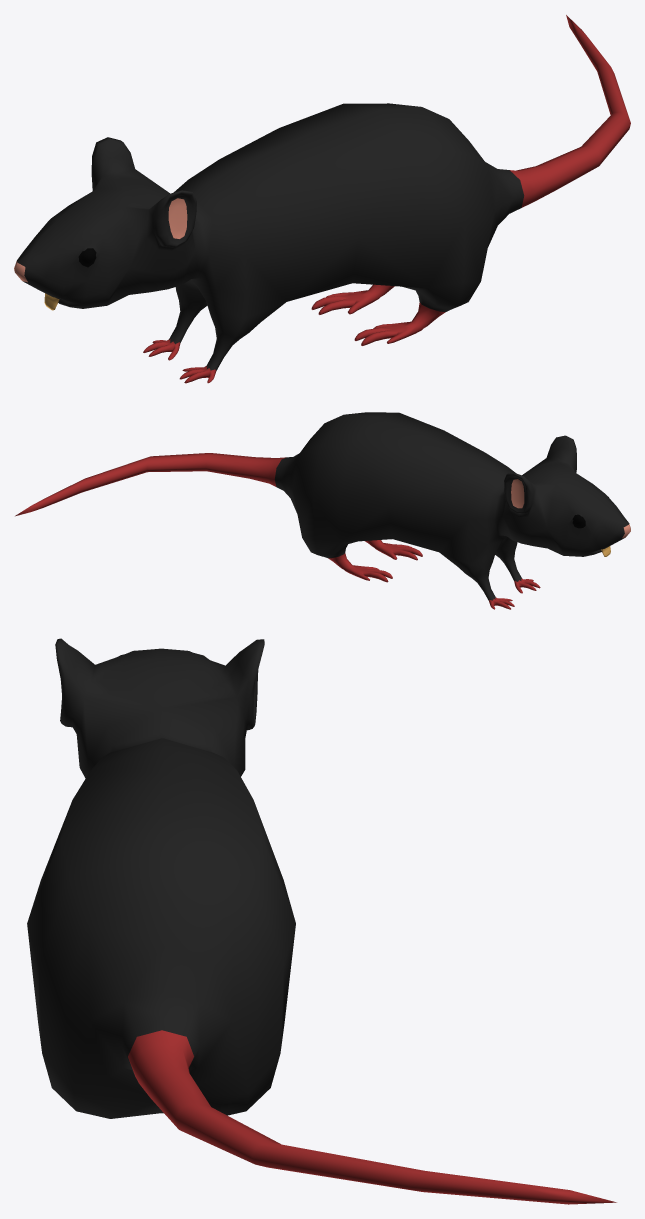
The model's file is Rat.FBX.
3 renders of one model, top to bottom at view 1: azimuth 30°, elevation 25°; view 2: azimuth 150°, elevation 25°; view 3: azimuth 270°, elevation 25°, orthographic. The views are drawn at different scales.
Visible parts, largest first — view 1: Boîte001; view 2: Boîte001; view 3: Boîte001.
Boxes of the visible parts, <box> form: Boîte001: <box>14,15,630,383</box>; Boîte001: <box>15,412,630,609</box>; Boîte001: <box>27,638,616,1204</box>.
Size of the model in its own units: 215 by 61.1 by 110.
